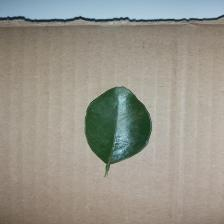healthy: (82, 85, 156, 164)
